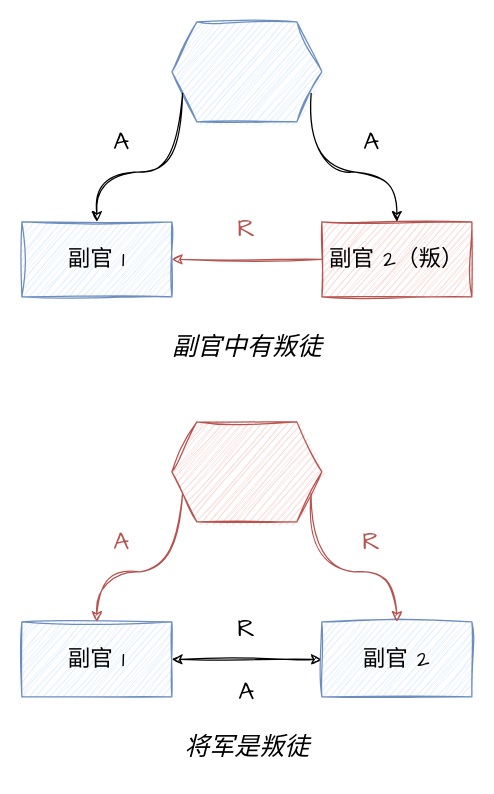
The diagram is 494 pixels wide and 794 high, and some of its shapes have lost their labels. The centre of each missing label's shape, as x and y in pixels:
"将军" goes at (246,71).
"将军（叛）" goes at (246,471).
